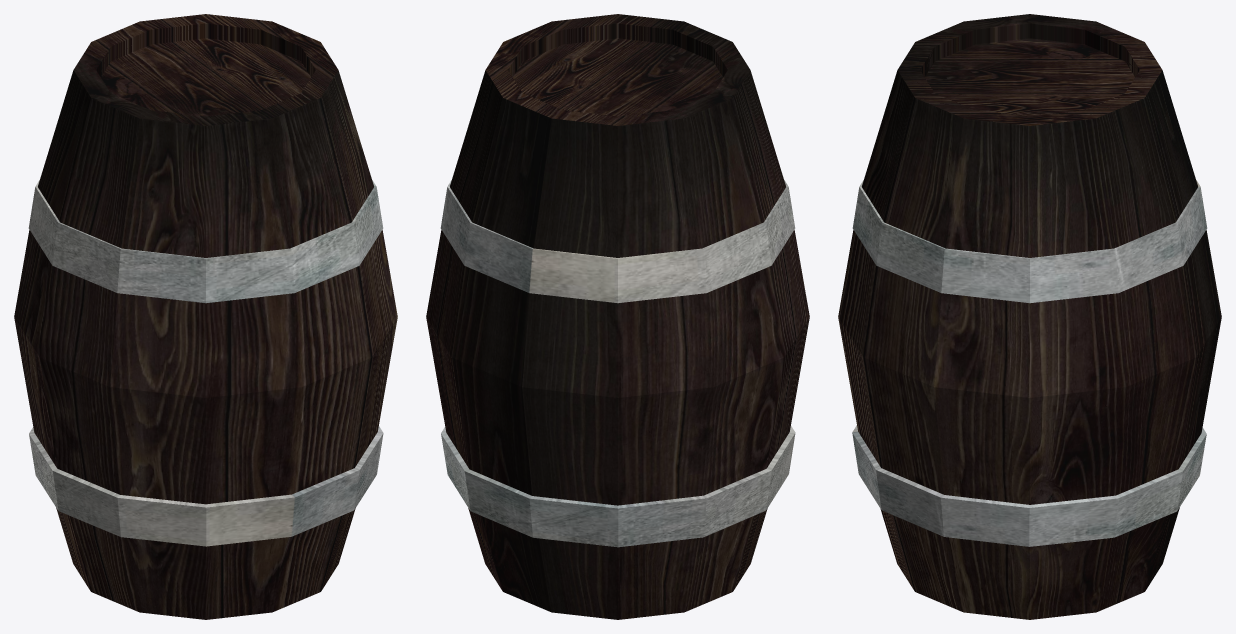
Rendered from Barrel.glb.
The picture shows the model from 3 angles, left to right: view 1: azimuth 30°, elevation 25°; view 2: azimuth 150°, elevation 25°; view 3: azimuth 270°, elevation 25°; orthographic projection.
Visible parts, largest first — view 1: Cylinder, Cylinder.001, Cylinder.002; view 2: Cylinder, Cylinder.001, Cylinder.002; view 3: Cylinder, Cylinder.001, Cylinder.002.
Boxes of the visible parts, x1,y1,x2,y2 form: Cylinder: (14,14,397,619); Cylinder.001: (28,180,383,303); Cylinder.002: (29,426,383,546); Cylinder: (426,14,809,619); Cylinder.001: (440,180,795,303); Cylinder.002: (441,426,795,547); Cylinder: (838,14,1221,619); Cylinder.001: (852,180,1207,303); Cylinder.002: (852,425,1206,546).
Size of the model in its own units: 0.5633 by 0.8 by 0.5633.
Materials: 3 (3 with a texture image).
